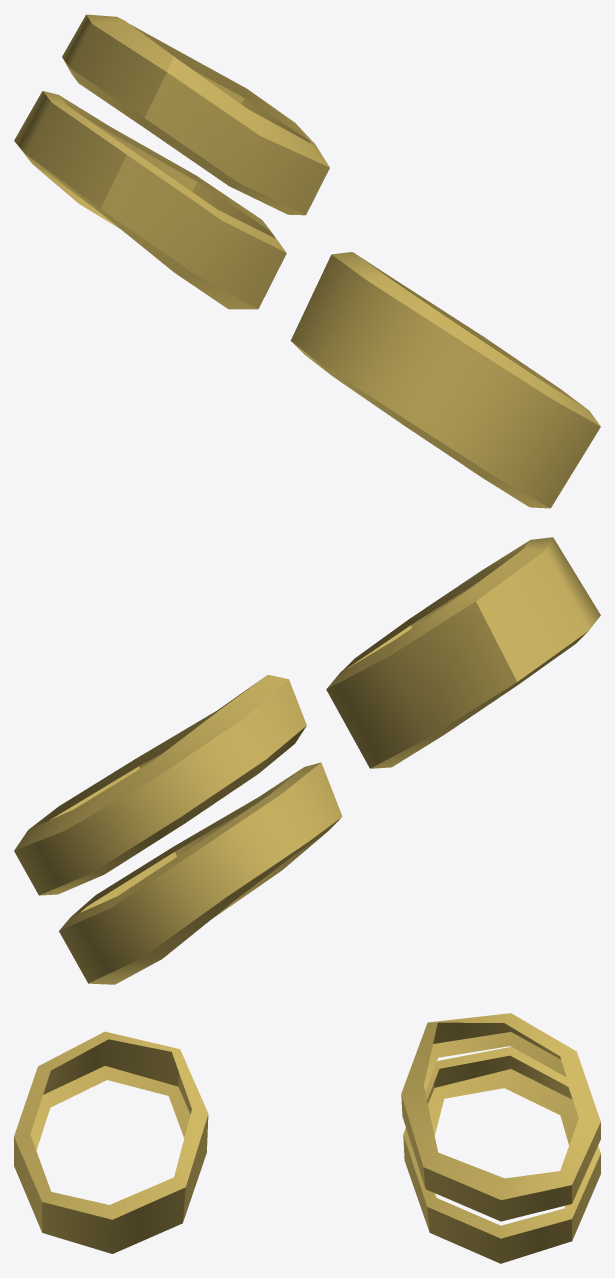
The model's file is LeftRing_01_mesh.fbx.
3 renders of one model, top to bottom at view 1: azimuth 30°, elevation 25°; view 2: azimuth 150°, elevation 25°; view 3: azimuth 270°, elevation 25°, orthographic. The views are drawn at different scales.
Parts seen in each view (by area): view 1: LeftRing_01_mesh1; view 2: LeftRing_01_mesh1; view 3: LeftRing_01_mesh1.
Part boxes in pixels (left/top/right/bottom): LeftRing_01_mesh1: left=14, top=14, right=600, bottom=508; LeftRing_01_mesh1: left=14, top=537, right=600, bottom=984; LeftRing_01_mesh1: left=14, top=1013, right=600, bottom=1263.
Bounding box in the file's own units: 1.87 × 1.87 × 4.9.
